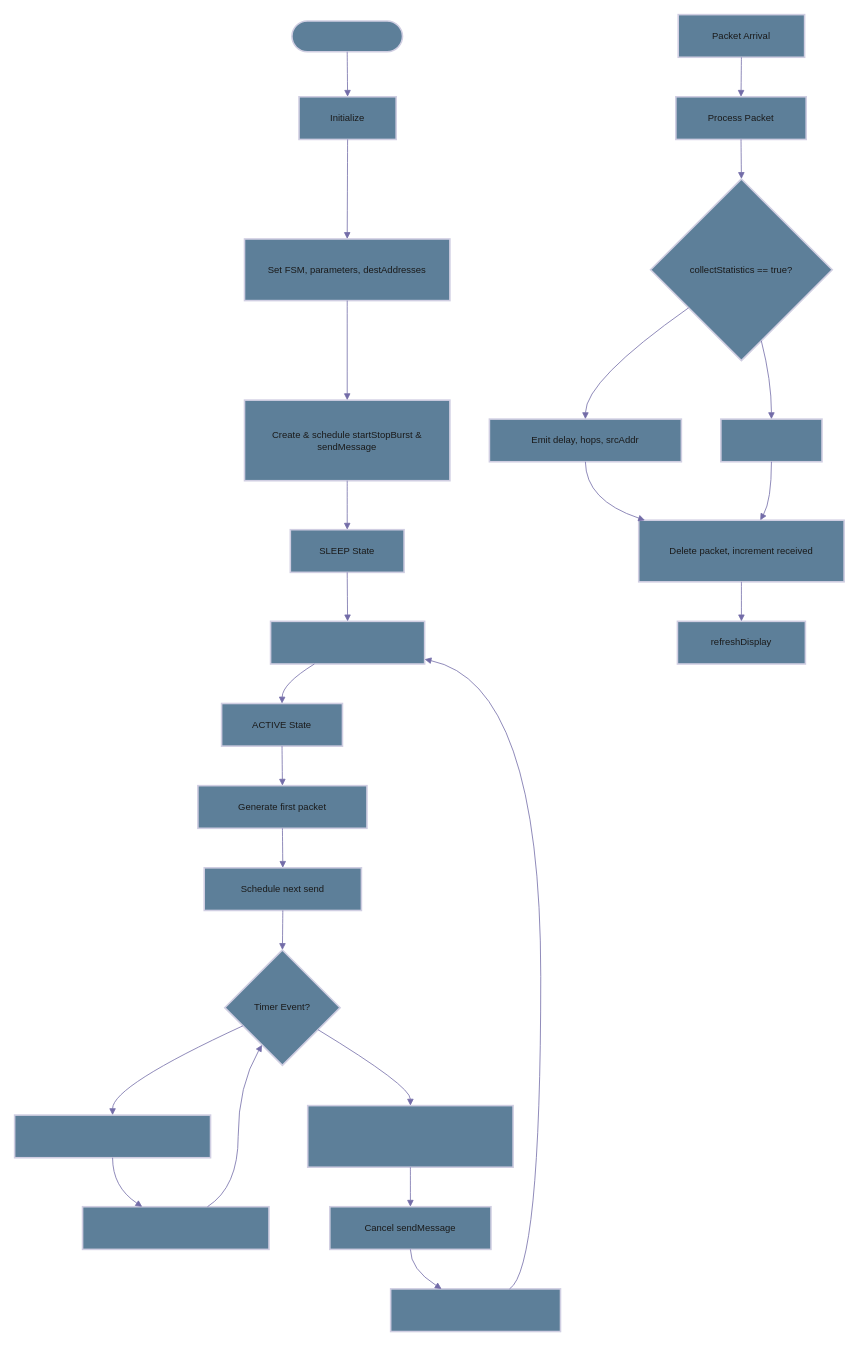
Image size: 858x1345. Some labels were removed from this diagram. The shapes that lost their labels are listed below. From the top down, each one's centre as x and y in pixels, then its label:
pixel 347 36: Start Simulation
pixel 771 440: Skip stats
pixel 347 642: Wait for sleepTime
pixel 112 1136: Generate and send packet
pixel 410 1136: Start stopBurst received again
pixel 175 1228: Reschedule sendMessage
pixel 475 1310: Return to SLEEP state
